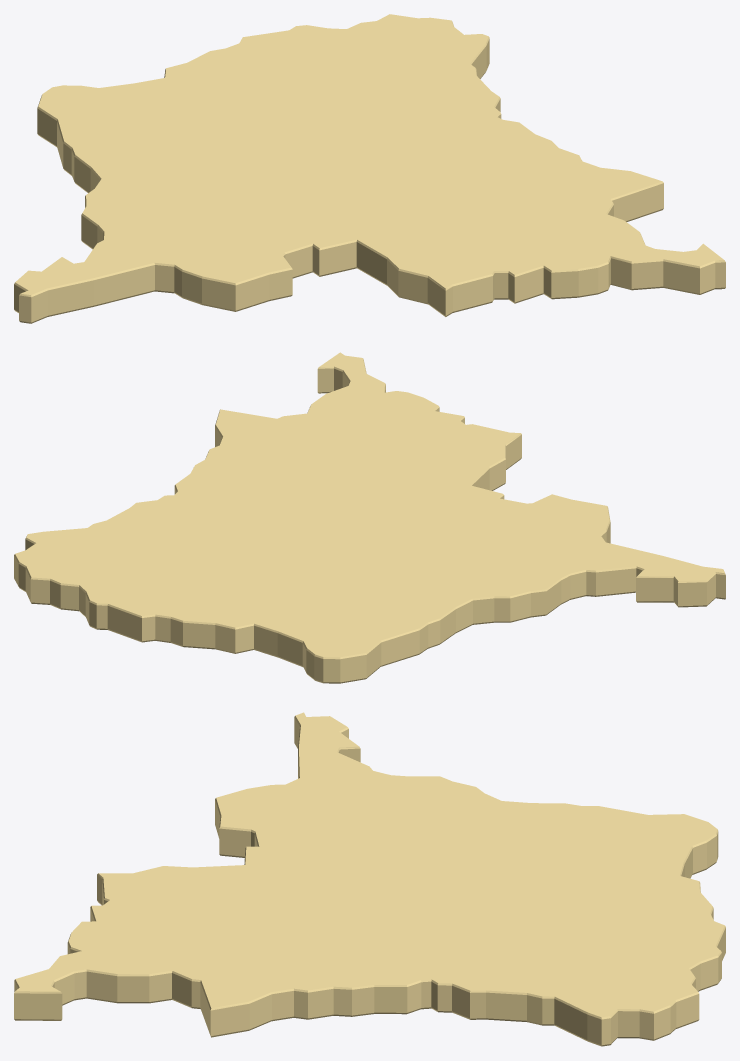
File: COD.glb
3 views of the same model, one above another, from view 1: azimuth 30°, elevation 25°; view 2: azimuth 150°, elevation 25°; view 3: azimuth 270°, elevation 25° (orthographic). The views are drawn at different scales.
Size of the model in its own units: 1.53 by 0.068 by 1.5.
